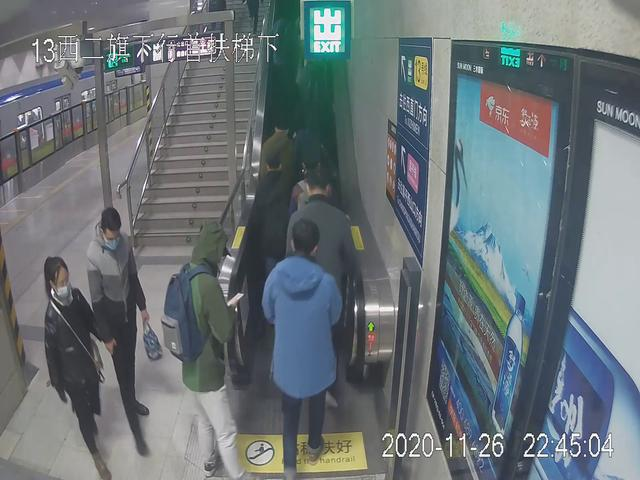person: (162, 219, 251, 479), (262, 219, 342, 474), (286, 169, 356, 425), (87, 207, 160, 452), (40, 254, 118, 479), (249, 146, 297, 276)
